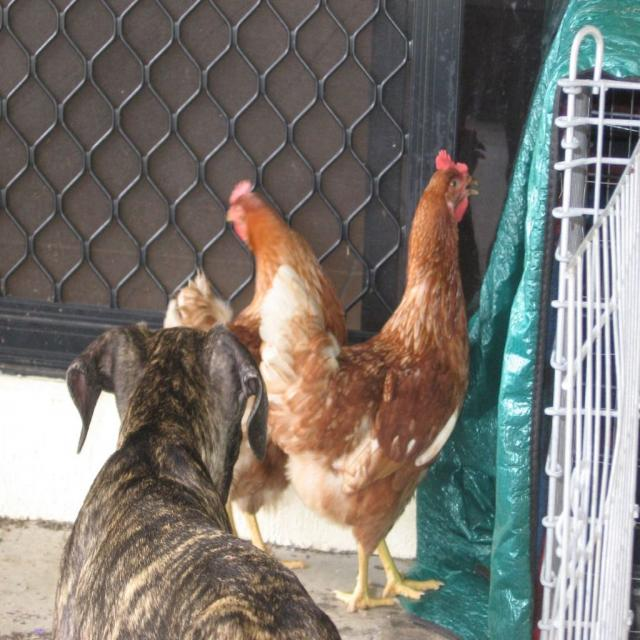Chicken: (217, 130, 477, 640)
